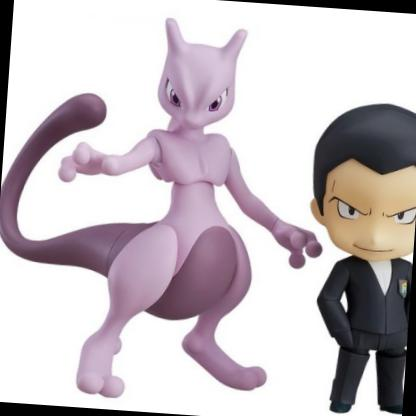Mewtwo: (1, 13, 416, 416)
